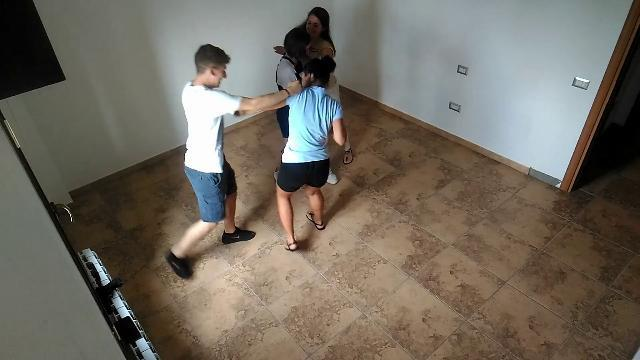violence: (161, 43, 347, 282), (276, 6, 340, 186)
